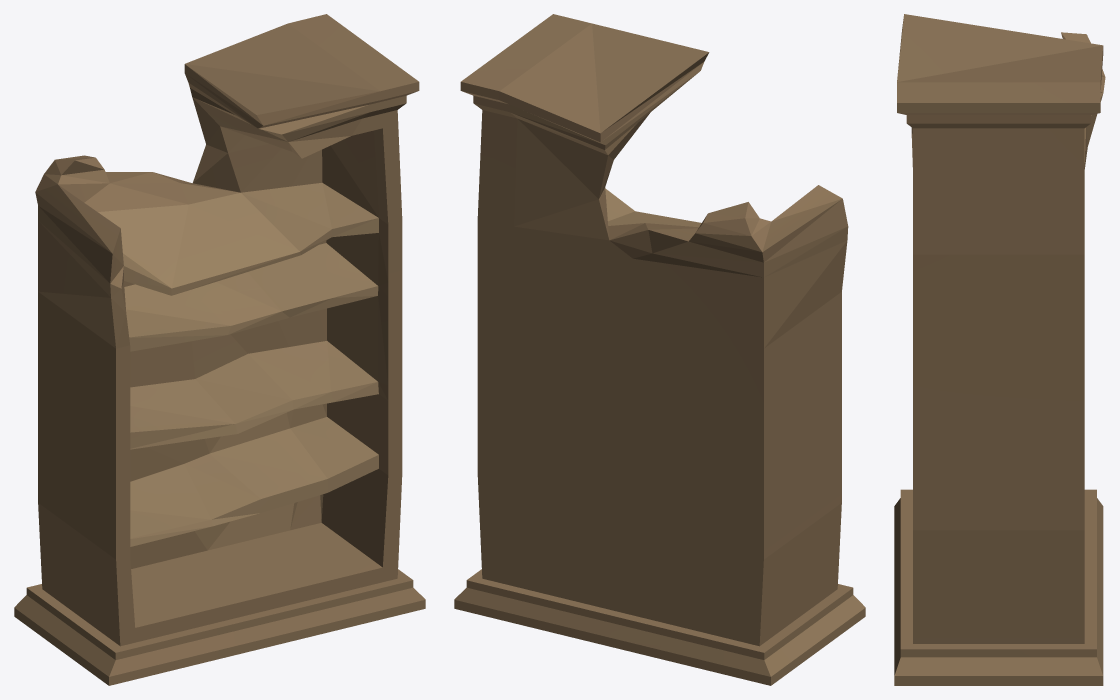
Rendered from shelf_1_C.obj.
The picture shows the model from 3 angles, left to right: view 1: azimuth 30°, elevation 25°; view 2: azimuth 150°, elevation 25°; view 3: azimuth 270°, elevation 25°; orthographic projection. The views are drawn at different scales.
Visible parts, largest first — view 1: shelf_1_C_Material; view 2: shelf_1_C_Material; view 3: shelf_1_C_Material.
Boxes of the visible parts, x1=… form: shelf_1_C_Material: x1=14, y1=14, x2=425, y2=685; shelf_1_C_Material: x1=454, y1=14, x2=865, y2=685; shelf_1_C_Material: x1=894, y1=14, x2=1105, y2=685.
Size of the model in its own units: 1.01 by 1.61 by 0.5291.
